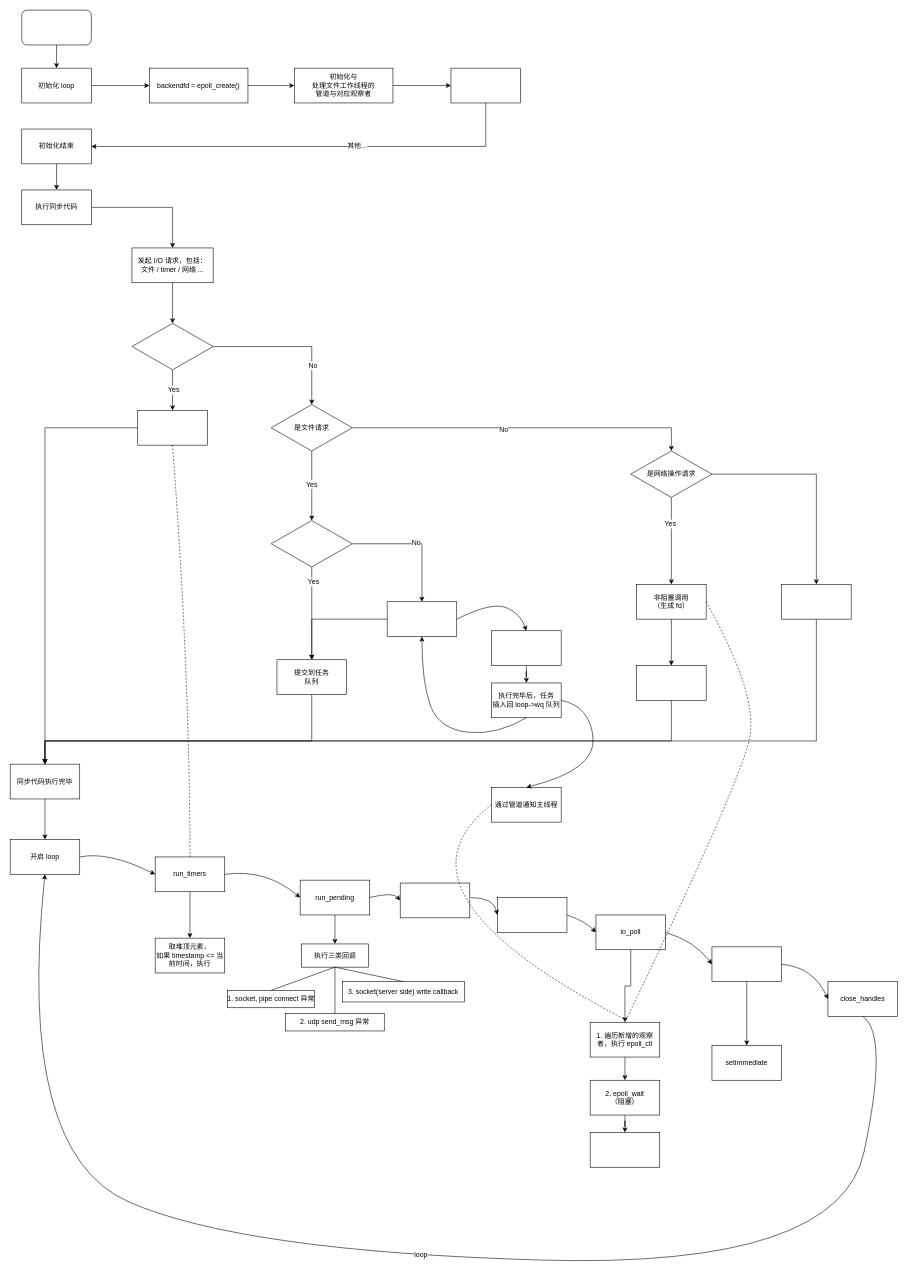
The diagram is 908 pixels wide and 1271 high, and some of its shapes have lost their labels. Each missing label, with the centre of its shape:
"3. 执行回调" goes at (625,1149).
"check" goes at (746,964).
"idle" goes at (435,900).
"prepare" goes at (532,914).
"其他操作 ..." goes at (816,601).
"初始化一些队列" goes at (485,85).
"启动文件处理 的工作线程" goes at (422,619).
"工作线程 默默地消耗任务" goes at (526,648).
"开始" goes at (56,27).
"插入小顶堆" goes at (172,427).
"插入观察者" goes at (671,682).
"文件处理的 工作线程是否已启动" goes at (311,543).
"是定时器" goes at (172,346).
